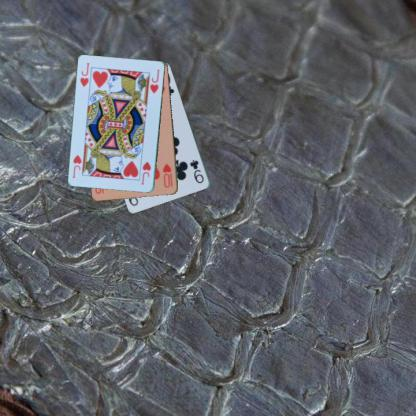10h: (160, 161, 174, 189)
9c: (187, 157, 205, 185)
Jh: (77, 60, 91, 88), (138, 160, 152, 186)
